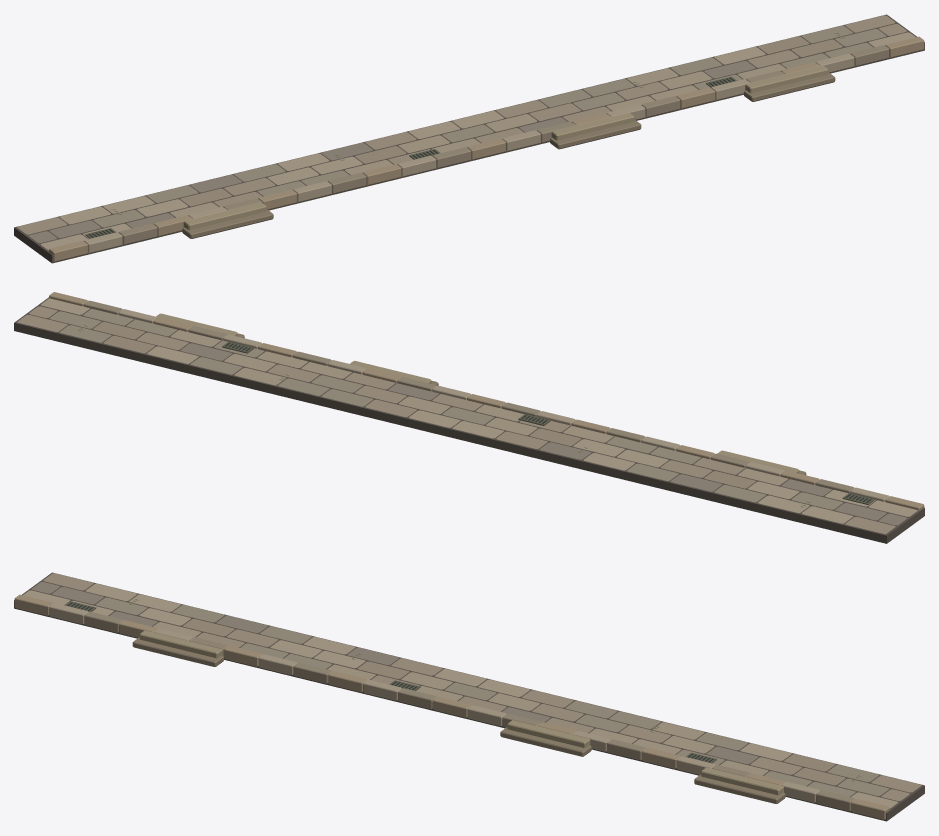
File: shopfront_walk.glb
3 renders of one model, top to bottom at view 1: azimuth 30°, elevation 25°; view 2: azimuth 150°, elevation 25°; view 3: azimuth 330°, elevation 25°, orthographic.
Parts seen in each view (by area): view 1: shopfront_walk; view 2: shopfront_walk; view 3: shopfront_walk.
Part boxes in pixels (x1,y1,x2,y2): shopfront_walk: [14, 14, 924, 263]; shopfront_walk: [14, 292, 924, 543]; shopfront_walk: [14, 572, 924, 821].
Size of the model in its own units: 13.6 by 0.1665 by 1.31.
